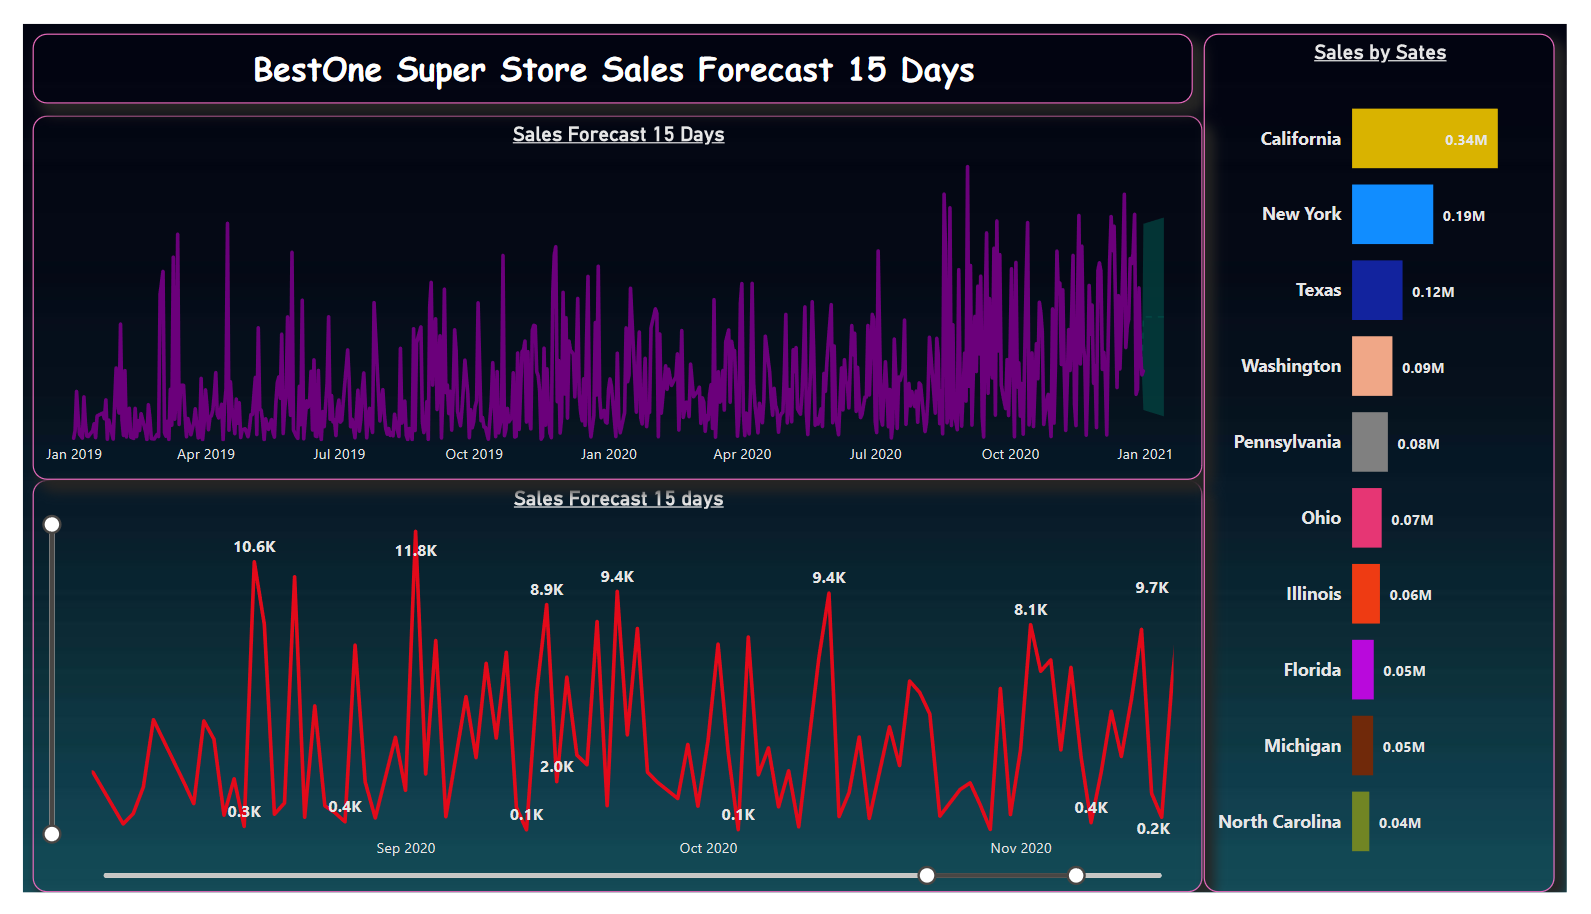

Layout of this report page (visuals, bound fields, positions):
{"tool":"powerbi","page":{"name":"Page 2","canvas":[1280,720],"ordinal":1},"visuals":[{"type":"lineChart","title":"Sales Forecast 15 days","fields":{"Y":["Sum(Sheet1.Sales)"],"Category":["Sheet1.Order Date"]},"box":[8.1,377.6,970.2,342.8],"z":0},{"type":"lineChart","title":"Sales Forecast 15 Days","fields":{"Y":["Sum(Sheet1.Sales)"],"Category":["Sheet1.Order Date"]},"box":[8.1,75.5,970.2,302.1],"z":1000},{"type":"textbox","box":[8.1,8.1,962.1,58.1],"z":2000},{"type":"clusteredBarChart","title":"Sales by Sates","fields":{"Category":["Sheet1.State"],"Y":["Sum(Sheet1.Sales)"]},"box":[978.9,8.2,290.7,711.6],"z":2001}]}

Visuals, with their boxes in screenshot pixels (x1, y1, x2, y2), scaled from the page's 1280x720 canvas onto the 1591x914 screenshot:
"Sales Forecast 15 days" lineChart: bbox=(10, 479, 1216, 913)
"Sales Forecast 15 Days" lineChart: bbox=(10, 96, 1216, 479)
textbox: bbox=(10, 10, 1206, 84)
"Sales by Sates" clusteredBarChart: bbox=(1217, 10, 1578, 913)
